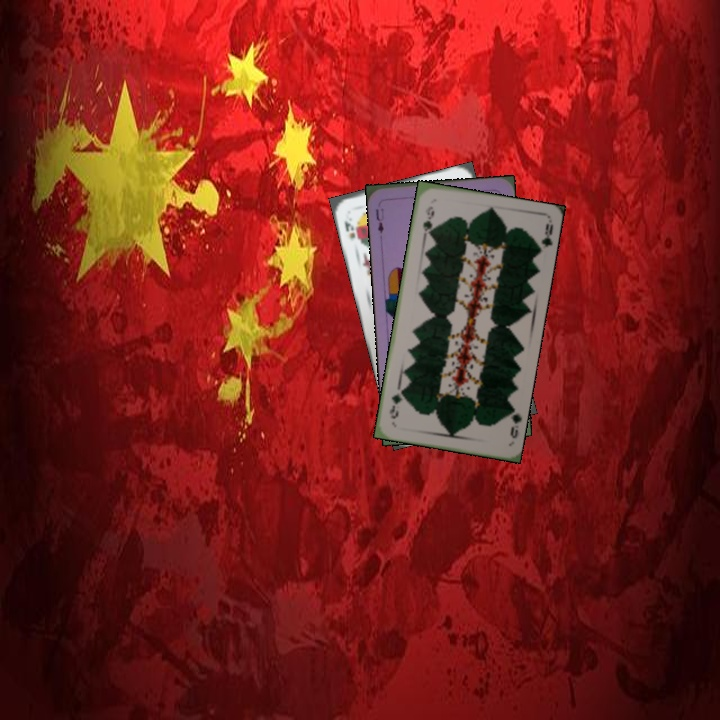EU: (372, 204, 386, 236)
G9: (503, 404, 523, 441), (419, 202, 436, 239)
SK: (340, 217, 358, 242)
